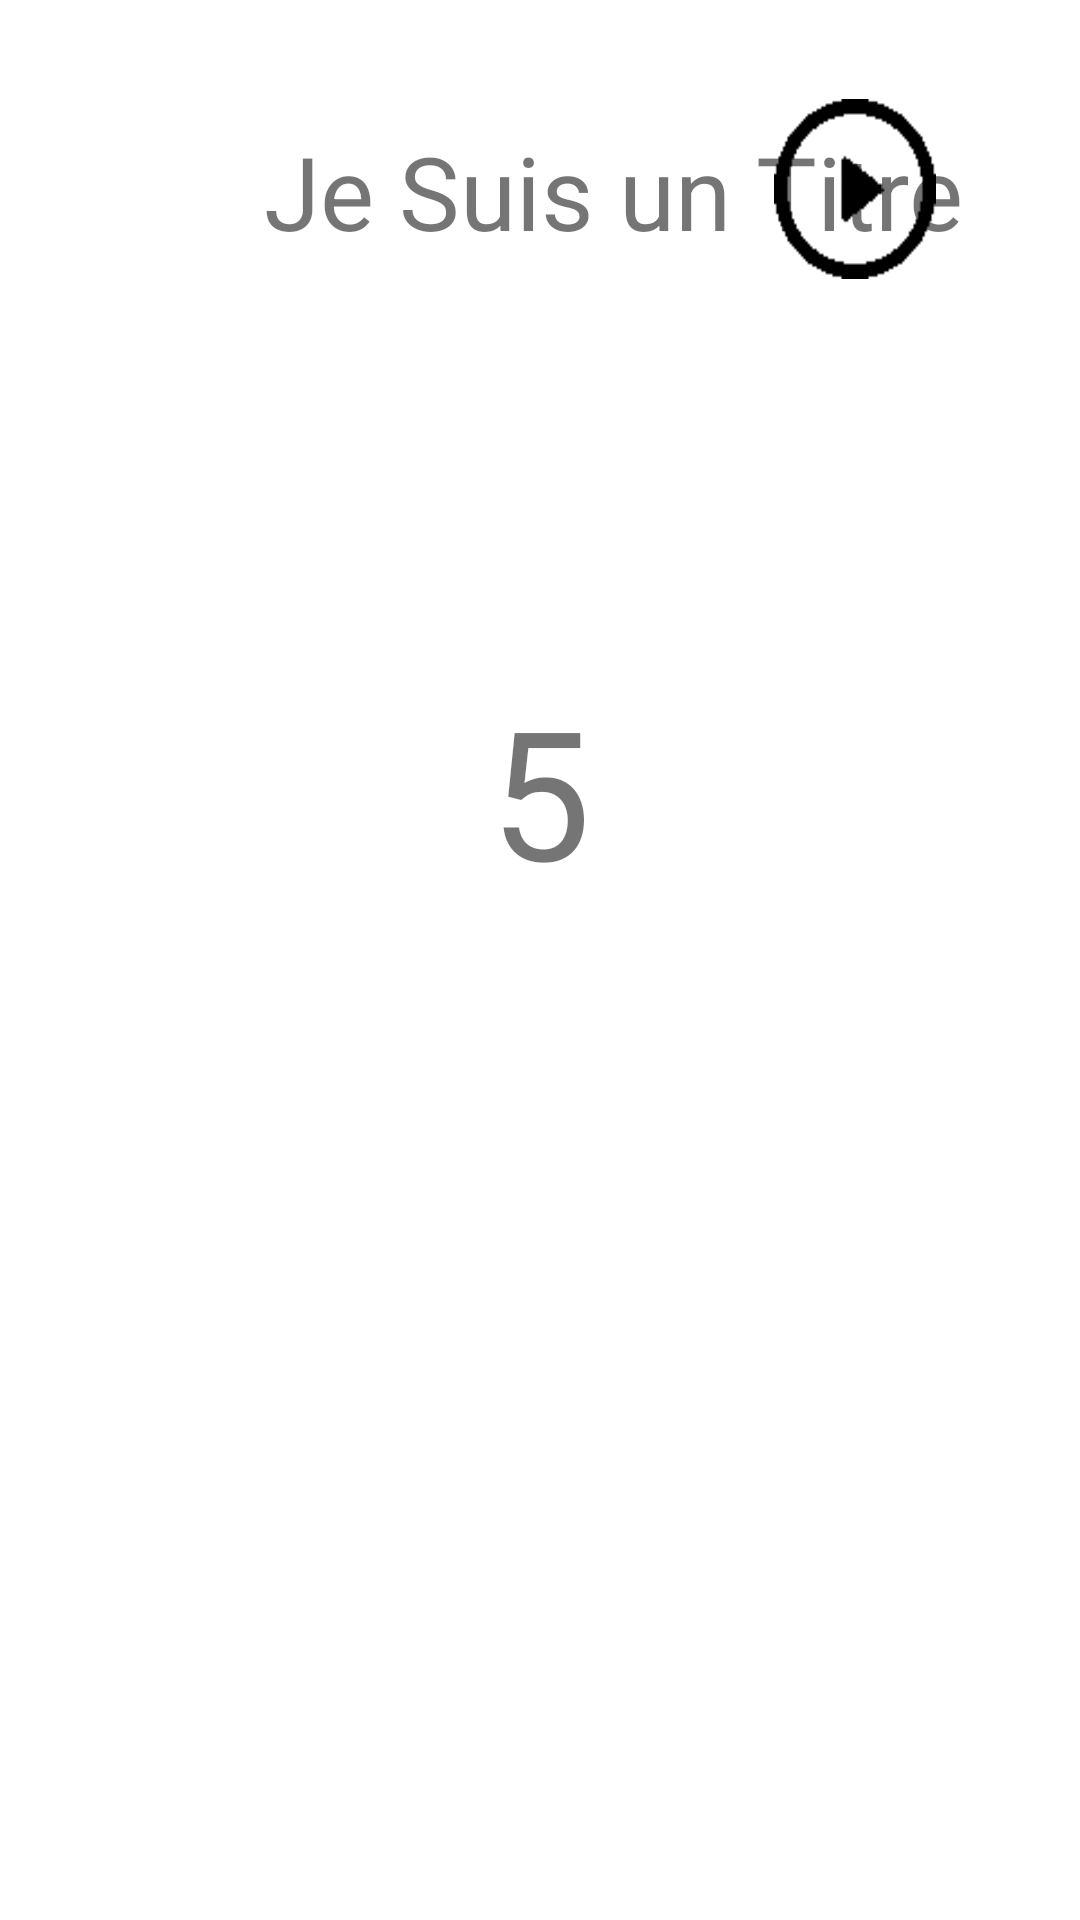

Icon click points for this 1080*1920 phone screenshot, format point (x, y):
playpng: point (855, 189)
